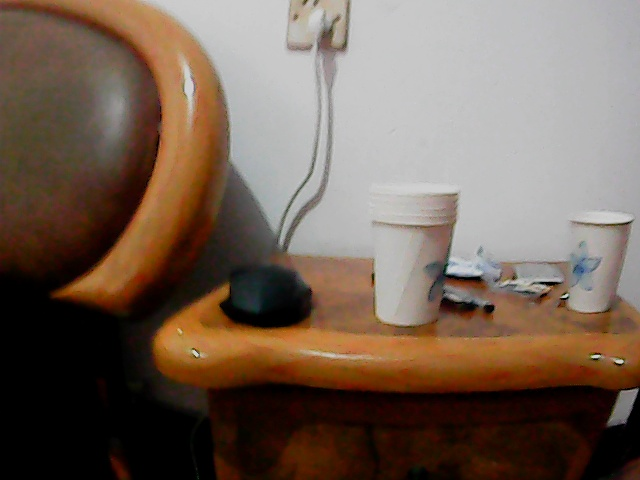cup: (368, 180, 458, 326)
mouse: (222, 258, 315, 329)
